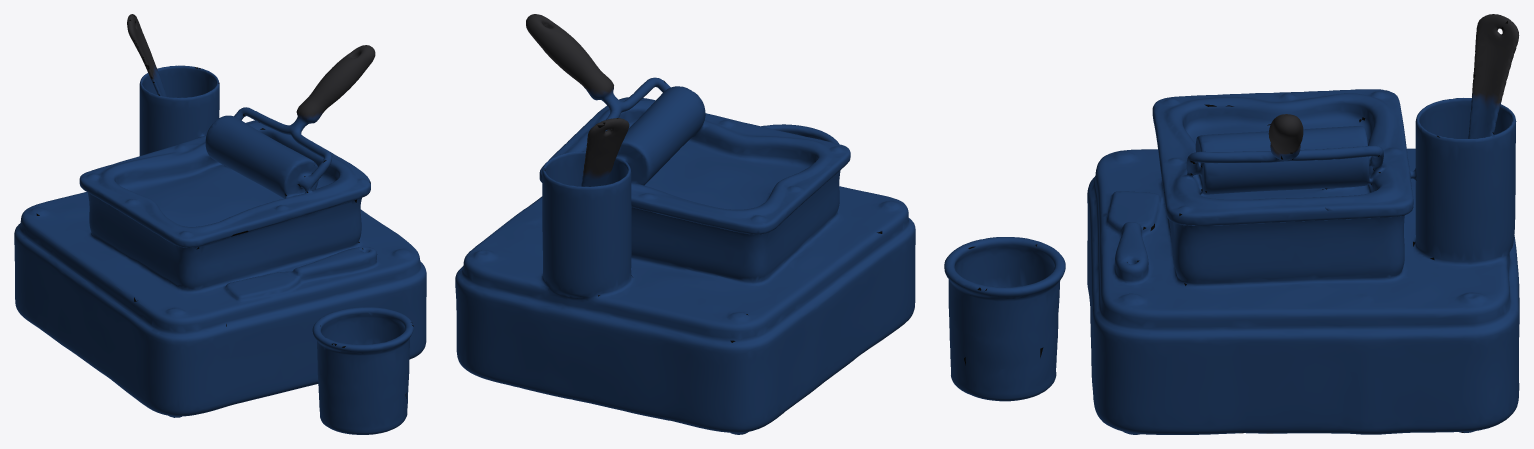
Rendered from structural-cure.glb.
3 renders of one model, left to right at view 1: azimuth 30°, elevation 25°; view 2: azimuth 150°, elevation 25°; view 3: azimuth 270°, elevation 25°, orthographic. The views are drawn at different scales.
Visible parts, largest first — view 1: tmpm3x0idp_.ply; view 2: tmpm3x0idp_.ply; view 3: tmpm3x0idp_.ply.
Part boxes in pixels (x1,y1,x2,y2): tmpm3x0idp_.ply: (14, 14, 426, 434); tmpm3x0idp_.ply: (455, 14, 915, 434); tmpm3x0idp_.ply: (944, 14, 1519, 434).
Bounding box in the file's own units: 1.43 × 1.28 × 1.95.
1 material, 1 textured.
